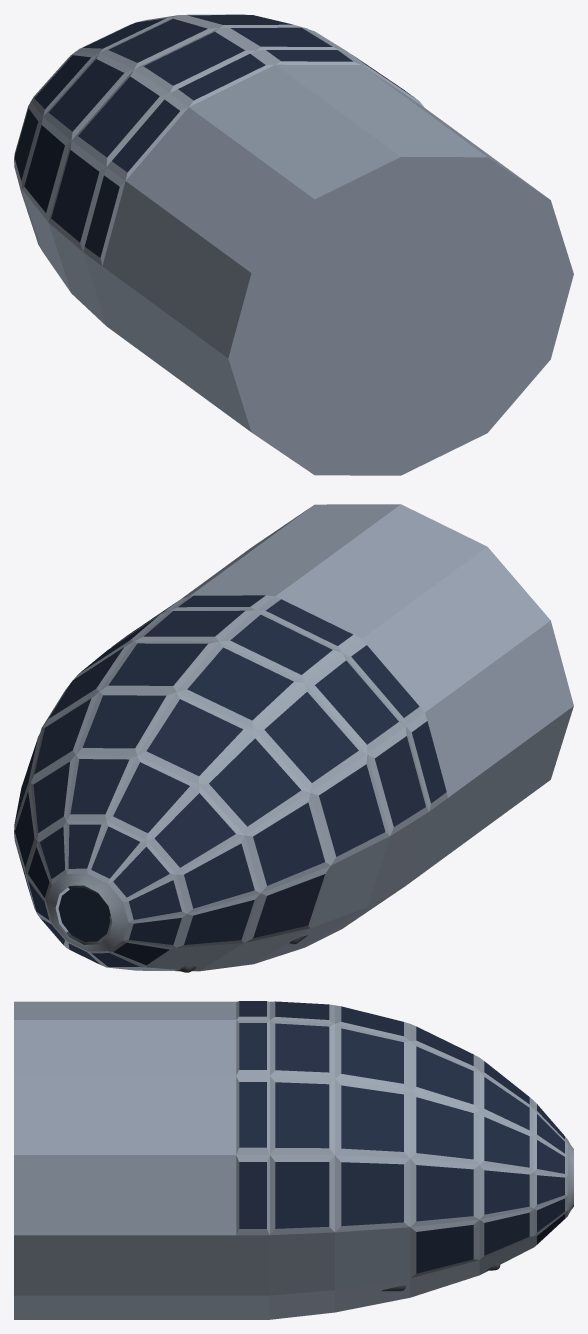
Rendered from cockpit_b29.glb.
3 renders of one model, top to bottom at view 1: azimuth 30°, elevation 25°; view 2: azimuth 150°, elevation 25°; view 3: azimuth 270°, elevation 25°, orthographic. The views are drawn at different scales.
Visible parts, largest first — view 1: B29_Rumpf_mit_Nase; view 2: B29_Rumpf_mit_Nase, B29_Rahmendetails, B29_Glasdetails; view 3: B29_Rumpf_mit_Nase, B29_Rahmendetails.
Part boxes in pixels (x1,y1,x2,y2): B29_Rumpf_mit_Nase: (14, 14, 573, 475); B29_Rumpf_mit_Nase: (14, 504, 573, 971); B29_Rahmendetails: (46, 873, 128, 951); B29_Glasdetails: (58, 887, 110, 941); B29_Rumpf_mit_Nase: (14, 1001, 567, 1319); B29_Rahmendetails: (567, 1140, 573, 1215).
Bounding box in the file's own units: 1.68 × 1.48 × 2.67.
